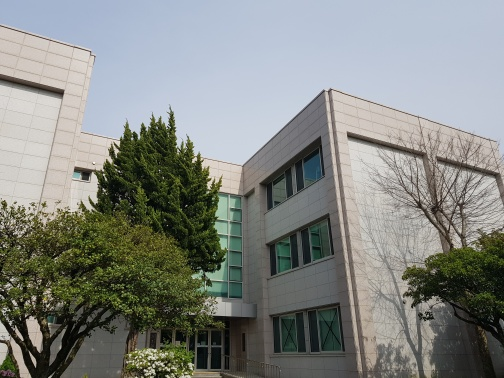College of Nursing: (26, 60, 492, 371)
